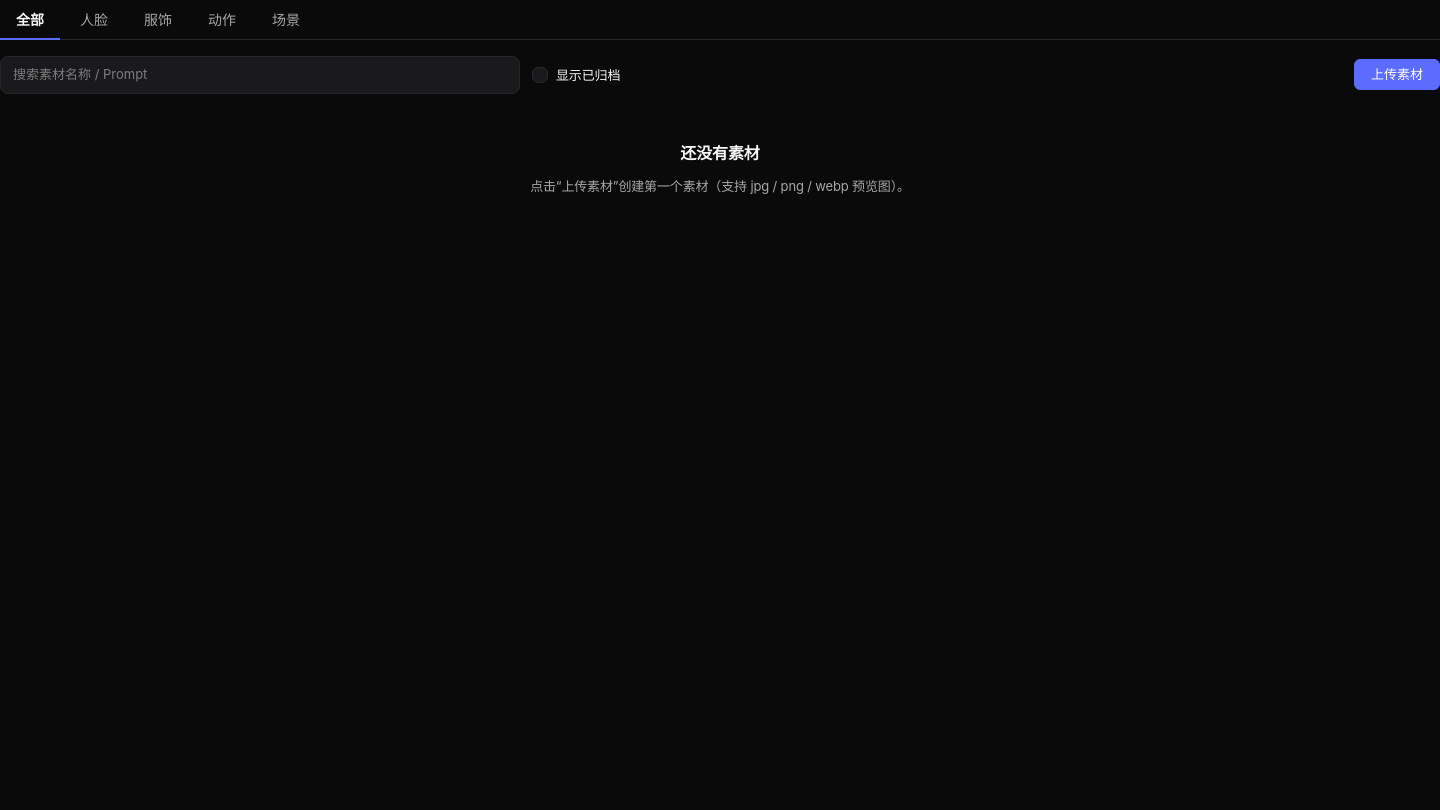
Test: AssetsPage 素材库 › 点击上传素材打开上传对话框
Expected: the heading "还没有素材" is shown, 680,142 -> 760,162
Click the button "上传素材". click: (1397, 75)
box: 1354,59 -> 1439,90
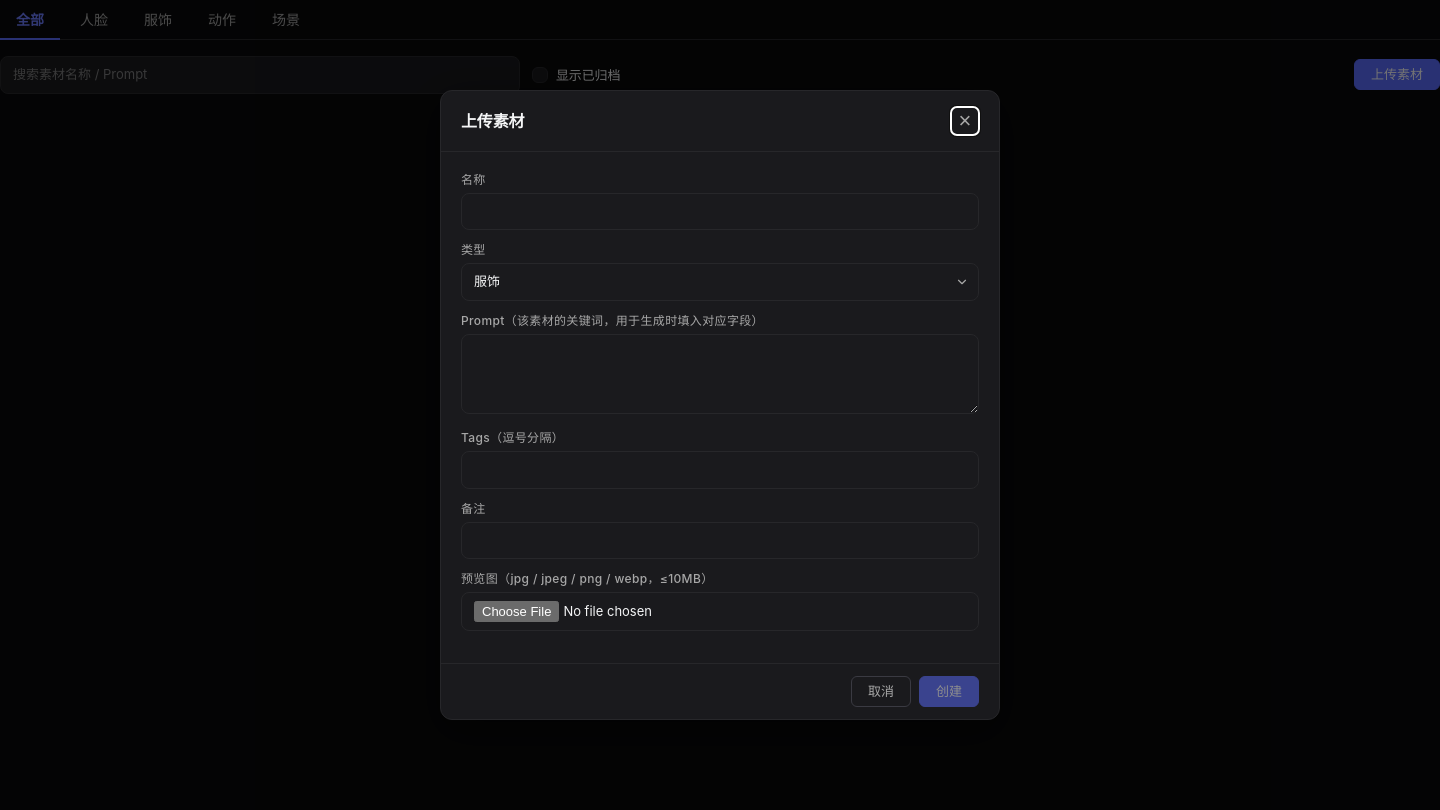
Now the button "创建" is shown, box 919,676 -> 979,707
